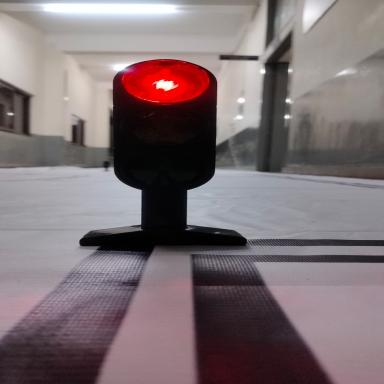traffic red: (84, 50, 271, 264)
